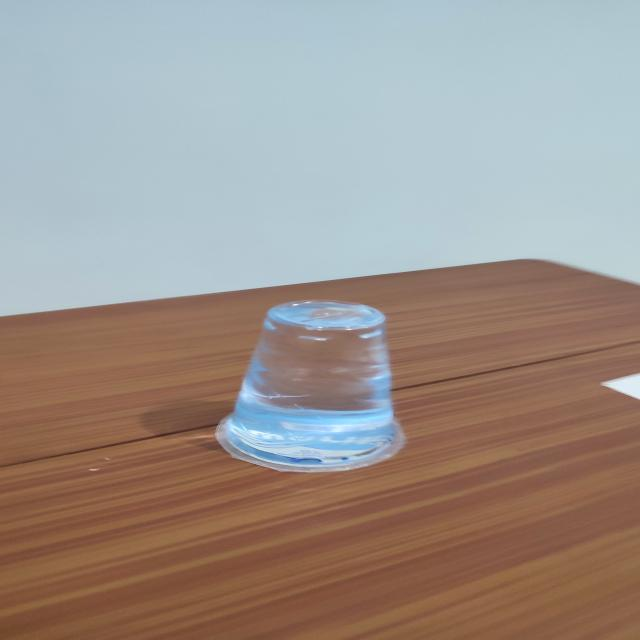air gelas: (212, 291, 414, 483)
